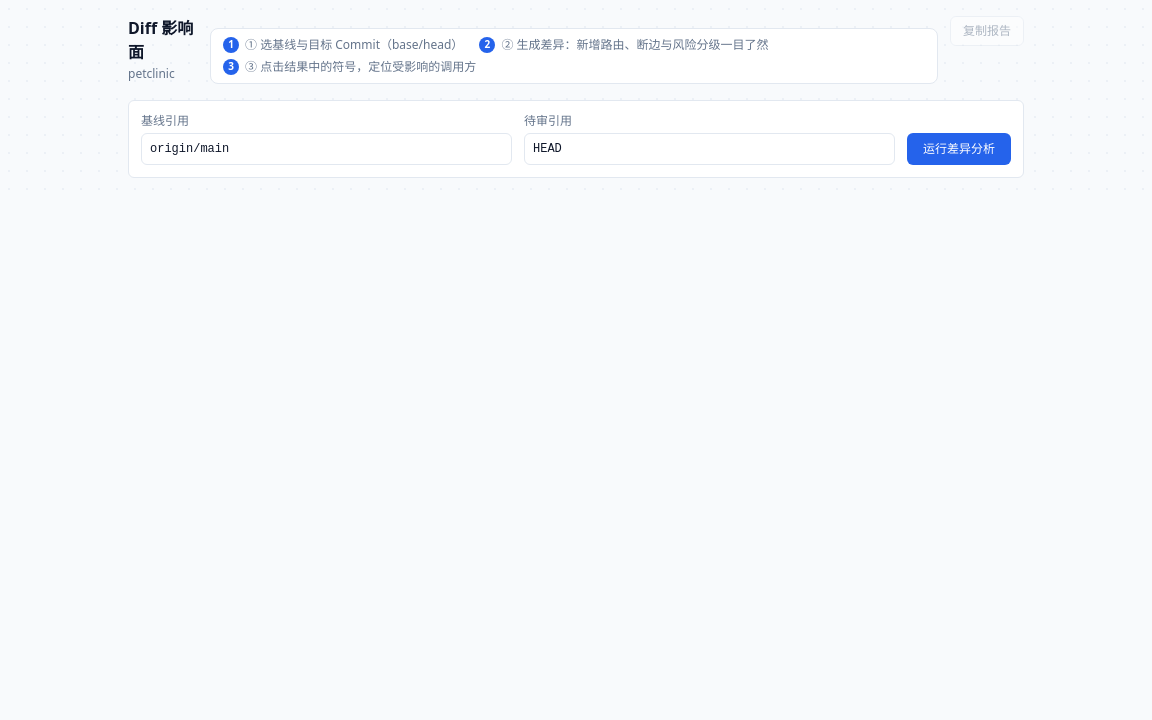
Scenario: ArchitectureDeltaView (v0.6.0) › v0.6 closeout: omits the diagram section when mermaid is missing
Click the button with test id "delta-run" at (959, 149), box [907,133,1011,165]
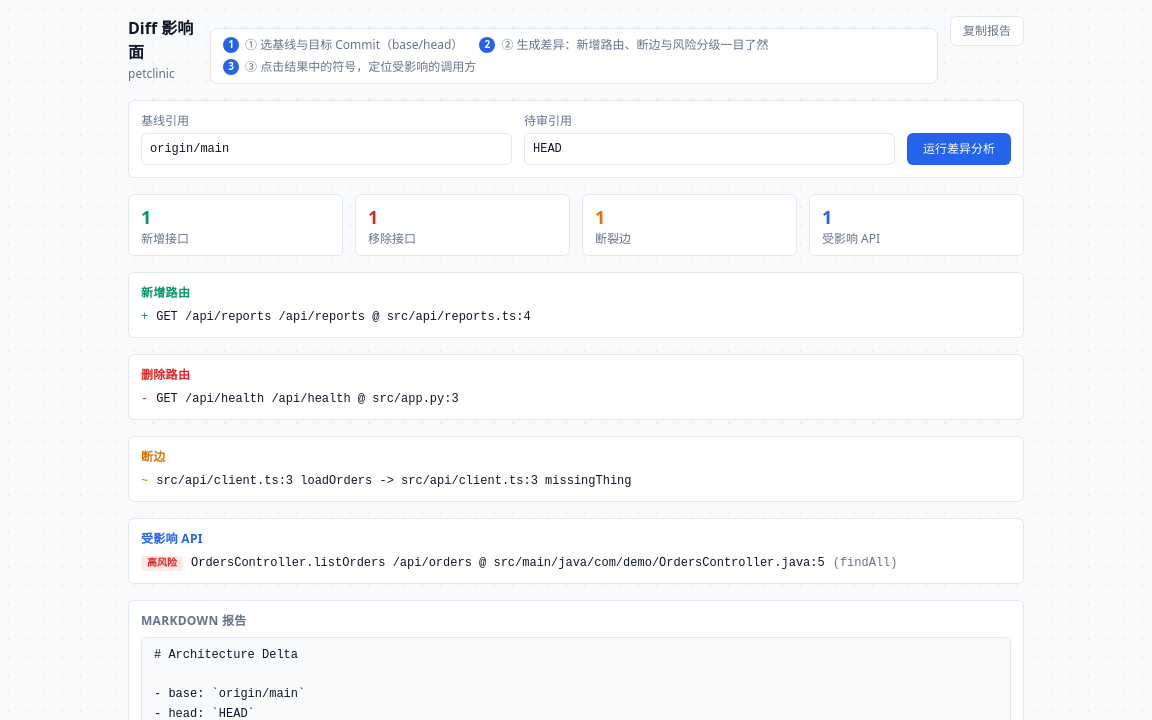
Result: the element with test id "delta-added" is shown at [128,194,343,256]
